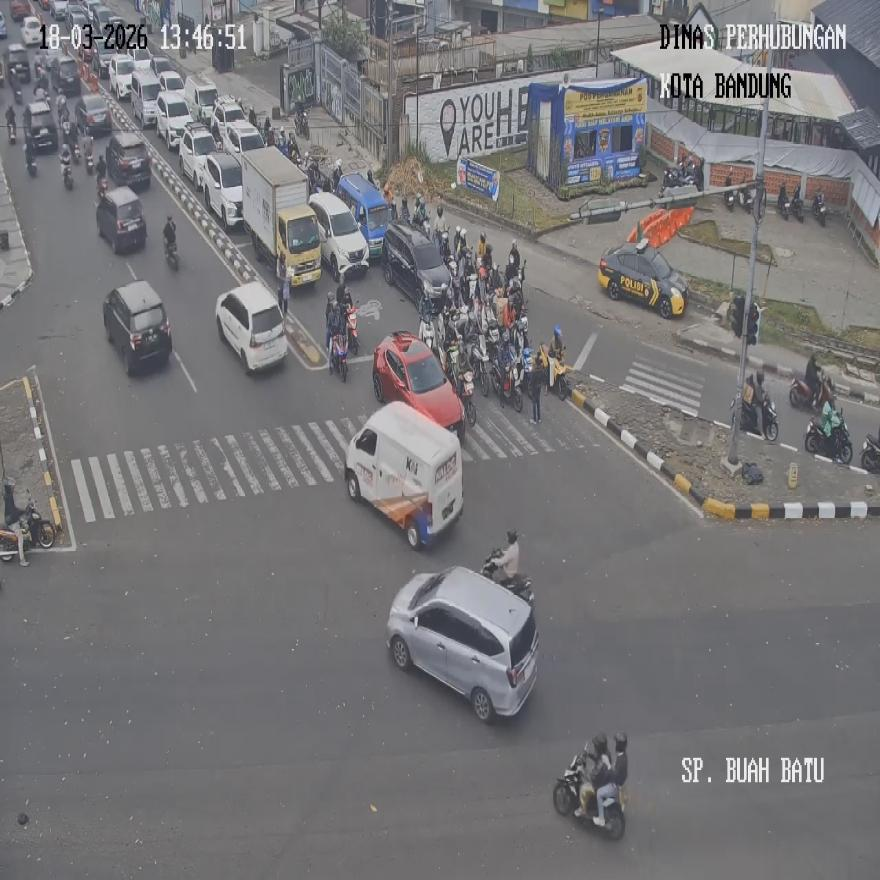Mobil: (385, 565, 539, 721), (344, 402, 462, 549), (372, 331, 465, 438), (216, 281, 287, 373), (103, 279, 171, 374), (308, 190, 370, 282)
Motor: (553, 750, 625, 838), (480, 548, 534, 606), (805, 407, 853, 464), (733, 391, 777, 441), (19, 497, 55, 549), (788, 370, 832, 410), (543, 346, 570, 401), (457, 369, 475, 428), (507, 358, 524, 411), (330, 332, 348, 382), (861, 431, 879, 472), (345, 305, 358, 354), (789, 187, 806, 221), (163, 232, 178, 270), (25, 134, 38, 176), (741, 183, 758, 215), (82, 134, 95, 175), (812, 188, 826, 226), (61, 150, 73, 190), (724, 171, 736, 210), (777, 183, 789, 220), (7, 119, 16, 144)
